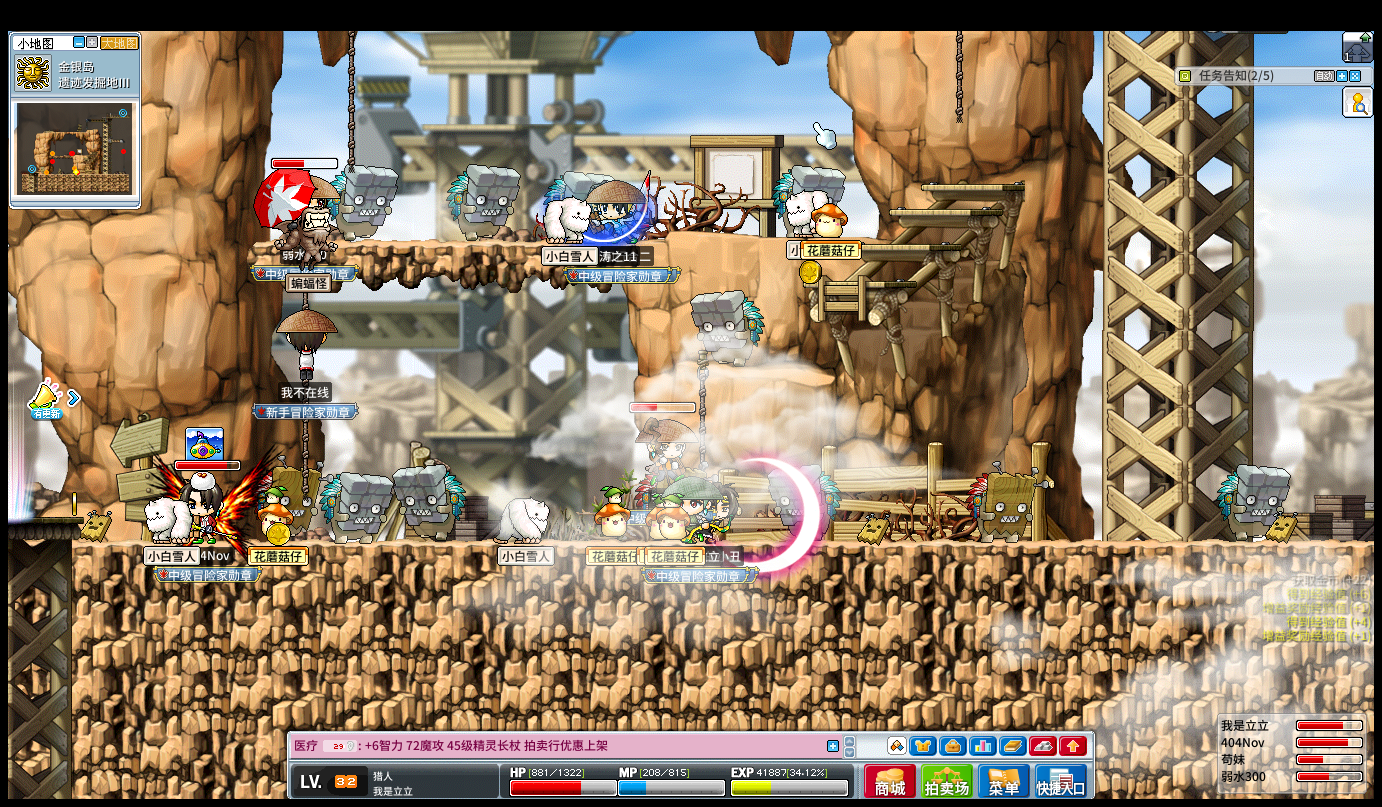floor: (250, 237, 641, 249), (718, 365, 836, 385), (725, 233, 888, 242), (800, 280, 908, 291), (798, 280, 914, 288), (920, 184, 1024, 192), (885, 207, 997, 214), (846, 243, 956, 250), (7, 516, 79, 524)
monster: (967, 463, 1049, 542), (447, 163, 522, 242), (690, 289, 765, 366), (1215, 464, 1289, 542), (392, 464, 465, 542), (319, 471, 390, 545), (332, 164, 398, 240), (776, 164, 848, 200)
rope: (345, 31, 355, 170), (696, 359, 707, 443), (953, 29, 962, 122), (301, 418, 309, 478)
